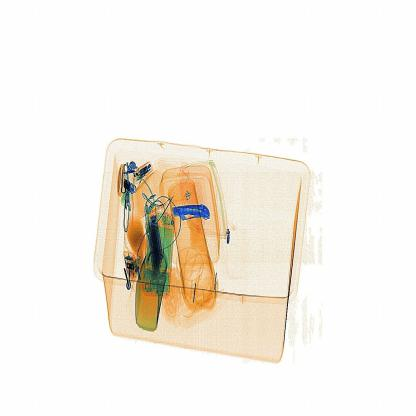knife: (168, 198, 219, 228)
